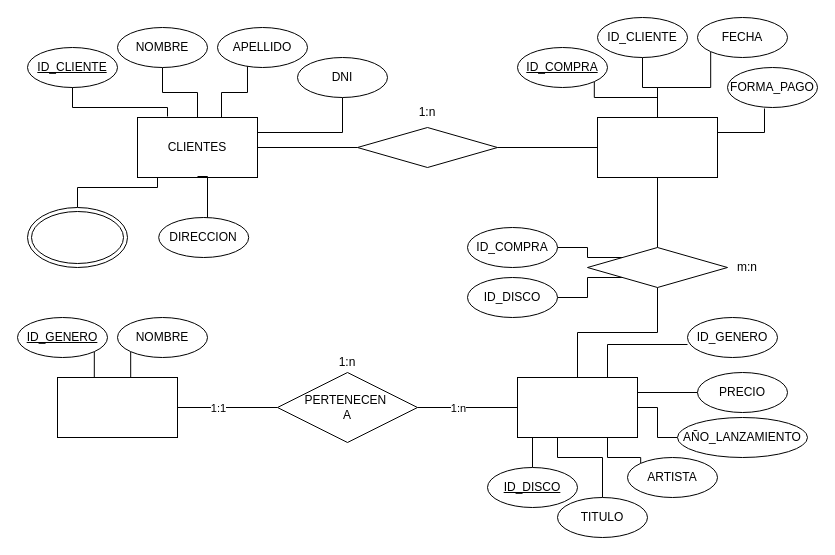
This 835x555 diagram has some shape labels left out. The box of each missing label's shape, as (x1, y1, x2, y2) in pixels:
COMPRAS: (596, 116, 718, 178)
DISCOS: (516, 376, 638, 438)
GENEROS: (56, 376, 178, 438)
REALIZAN: (356, 126, 498, 168)
TELEFONO: (26, 206, 128, 268)
TIENEN: (586, 246, 728, 288)
